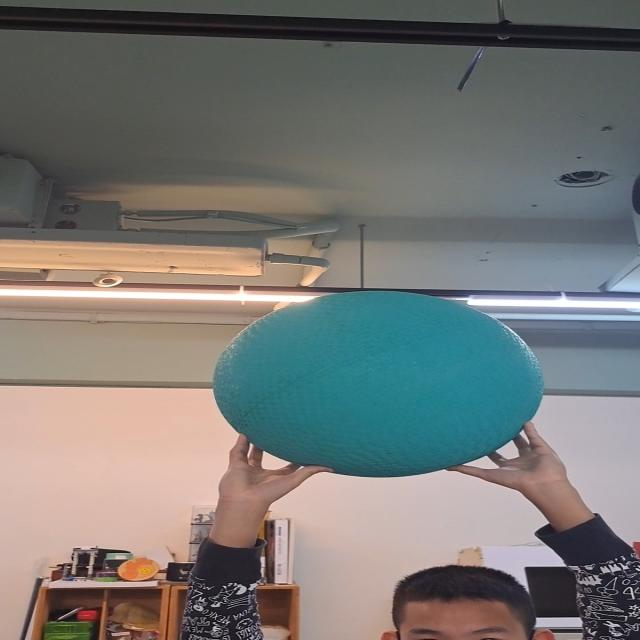ALGAE: (212, 291, 546, 478)
